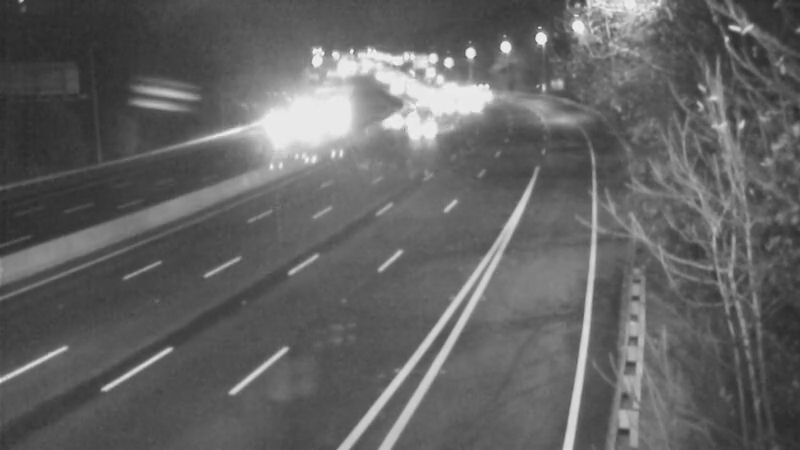vehicle: (373, 92, 423, 142), (395, 103, 445, 153), (255, 98, 305, 148)
